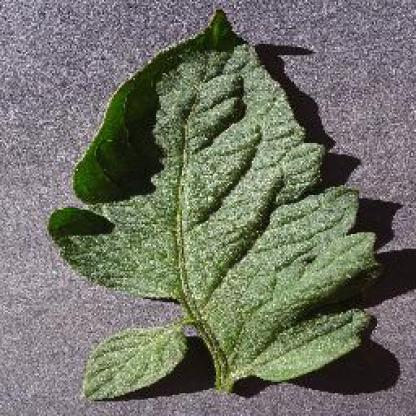good leaf: (104, 31, 312, 272)
